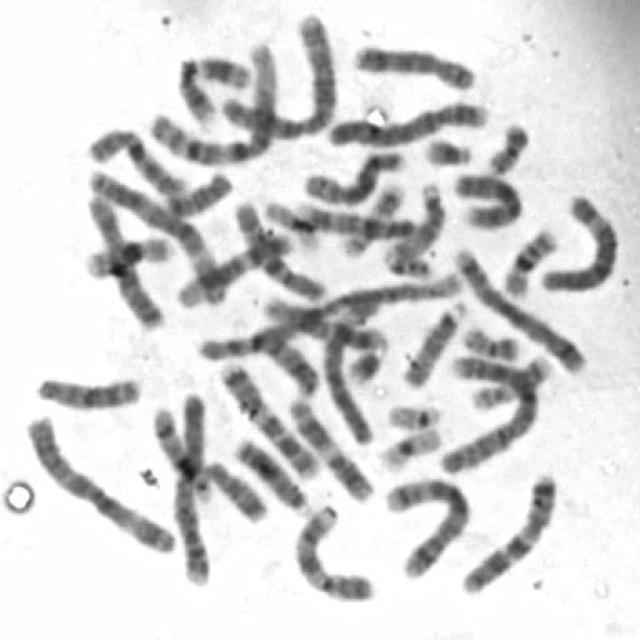A1: (183, 266, 474, 363), (143, 37, 283, 168)
A2: (215, 7, 342, 141), (432, 346, 543, 475)
A3: (16, 406, 178, 556), (77, 161, 229, 311)
B4: (320, 92, 492, 148), (170, 382, 215, 589)
B5: (447, 238, 590, 378), (375, 469, 473, 582)
C10: (226, 192, 331, 304), (81, 120, 193, 199)
C11: (282, 390, 376, 506), (172, 48, 254, 124)
C12: (168, 223, 297, 310), (257, 288, 389, 355)
C6: (317, 295, 388, 448), (535, 185, 622, 295)
C7: (452, 465, 560, 596), (214, 356, 324, 480)
C8: (346, 36, 479, 94), (298, 142, 411, 208)
C9: (287, 494, 379, 604), (294, 203, 430, 243)
D13: (228, 429, 313, 520), (29, 366, 145, 412)
D14: (148, 398, 216, 504), (251, 322, 323, 399)
D15: (396, 294, 470, 390), (385, 175, 448, 263)
E16: (496, 220, 562, 300), (79, 227, 178, 280)
E17: (463, 346, 556, 414), (334, 178, 407, 260)
E18: (200, 454, 270, 524), (158, 165, 236, 218)
F19: (371, 418, 446, 475), (286, 192, 322, 253)
F20: (480, 115, 534, 177), (457, 316, 522, 362)
G21: (417, 128, 477, 170), (340, 338, 390, 386)
G22: (376, 240, 436, 281), (382, 395, 447, 431)
X: (78, 182, 170, 334), (448, 165, 527, 232)
